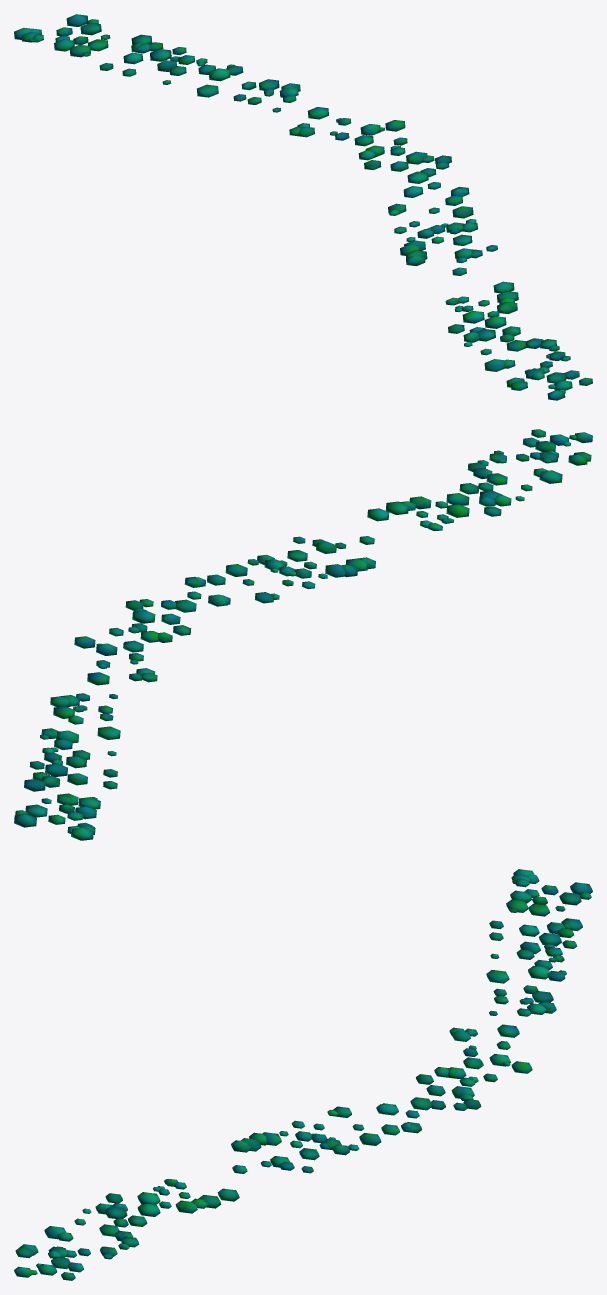
Rendered from CreekPebbles_A.fbx.
The picture shows the model from 3 angles, top to bottom: view 1: azimuth 30°, elevation 25°; view 2: azimuth 150°, elevation 25°; view 3: azimuth 330°, elevation 25°; orthographic projection. The views are drawn at different scales.
Parts seen in each view (by area): view 1: CreekPebbles_A; view 2: CreekPebbles_A; view 3: CreekPebbles_A.
Part boxes in pixels (x1,y1,x2,y2): CreekPebbles_A: (14,14,592,400); CreekPebbles_A: (14,429,592,840); CreekPebbles_A: (14,869,592,1280).
Size of the model in its own units: 0.9622 by 0.0524 by 4.18.
